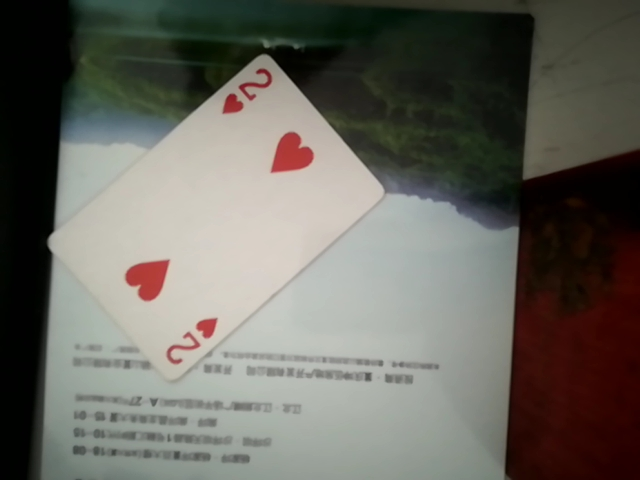hx 2: (59, 44, 380, 373)
